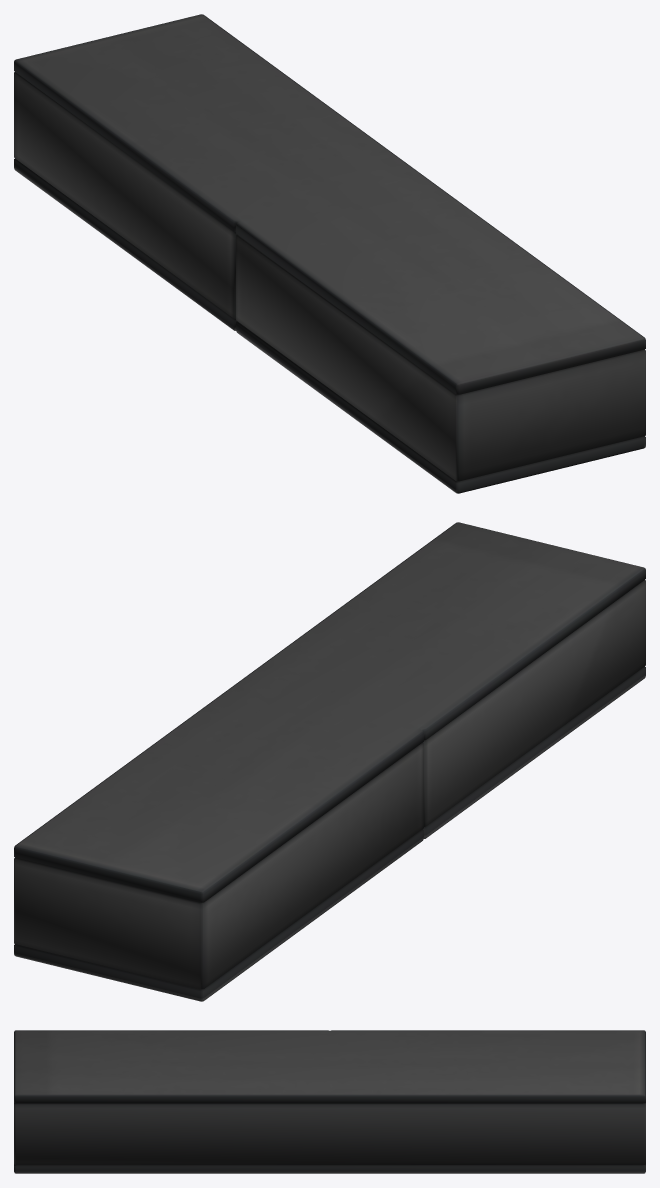
File: EE_BigScreen.gltf
The picture shows the model from 3 angles, top to bottom: view 1: azimuth 30°, elevation 25°; view 2: azimuth 150°, elevation 25°; view 3: azimuth 270°, elevation 25°; orthographic projection. The views are drawn at different scales.
Parts seen in each view (by area): view 1: EE_BigScreen.001; view 2: EE_BigScreen.001; view 3: EE_BigScreen.001.
Boxes of the visible parts, x1,y1,x2,y2 form: EE_BigScreen.001: (14, 14, 645, 493); EE_BigScreen.001: (14, 522, 645, 1001); EE_BigScreen.001: (14, 1030, 645, 1173).
Size of what is drawn, in the model's own units: 0.5269 by 0.2942 by 2.13.
Materials: 1 (1 with a texture image).
